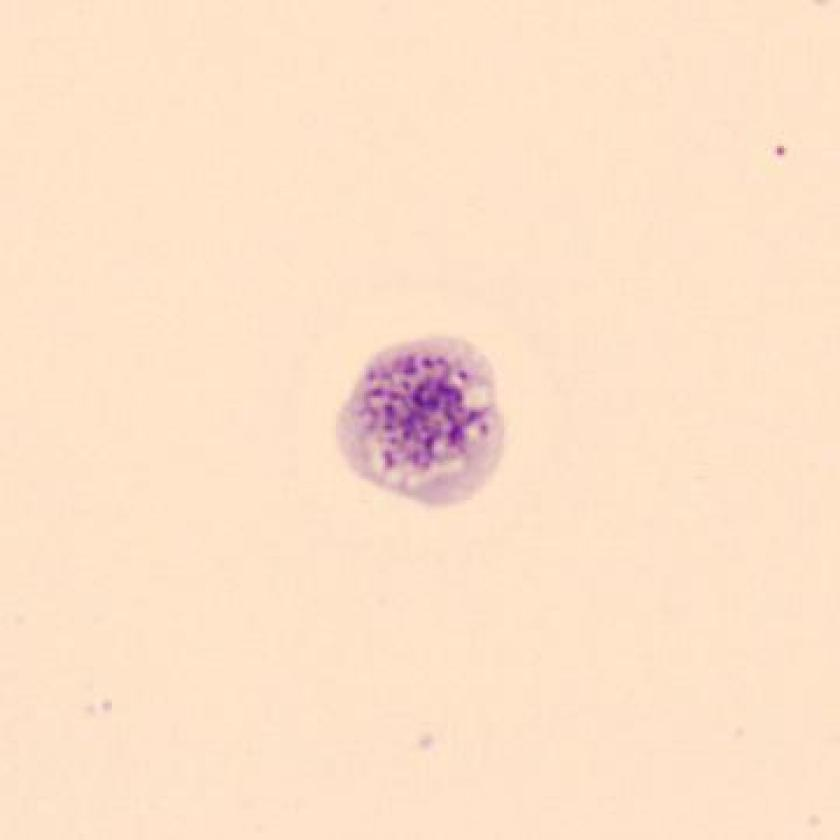platelets: (325, 318, 524, 533)
